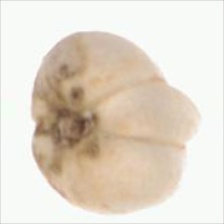L5: (92, 75, 203, 153), (37, 84, 107, 161)
L6: (28, 29, 203, 215)
